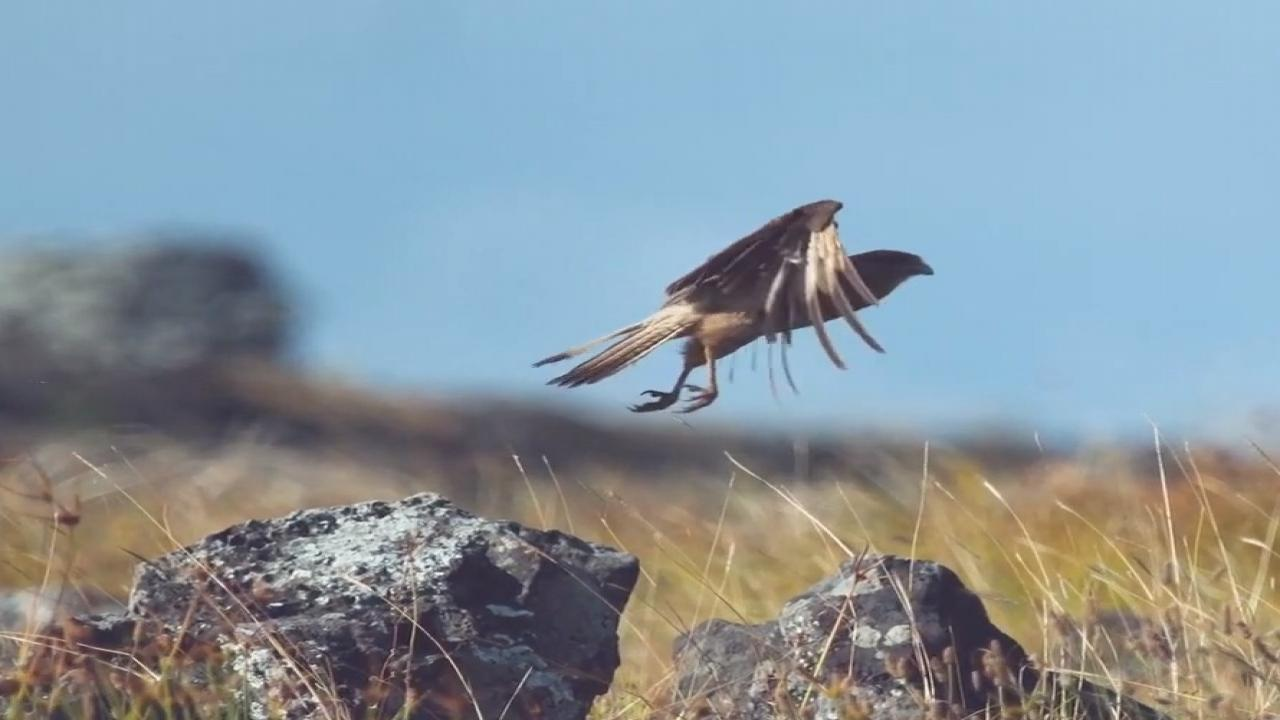Bird: (519, 192, 950, 423)
